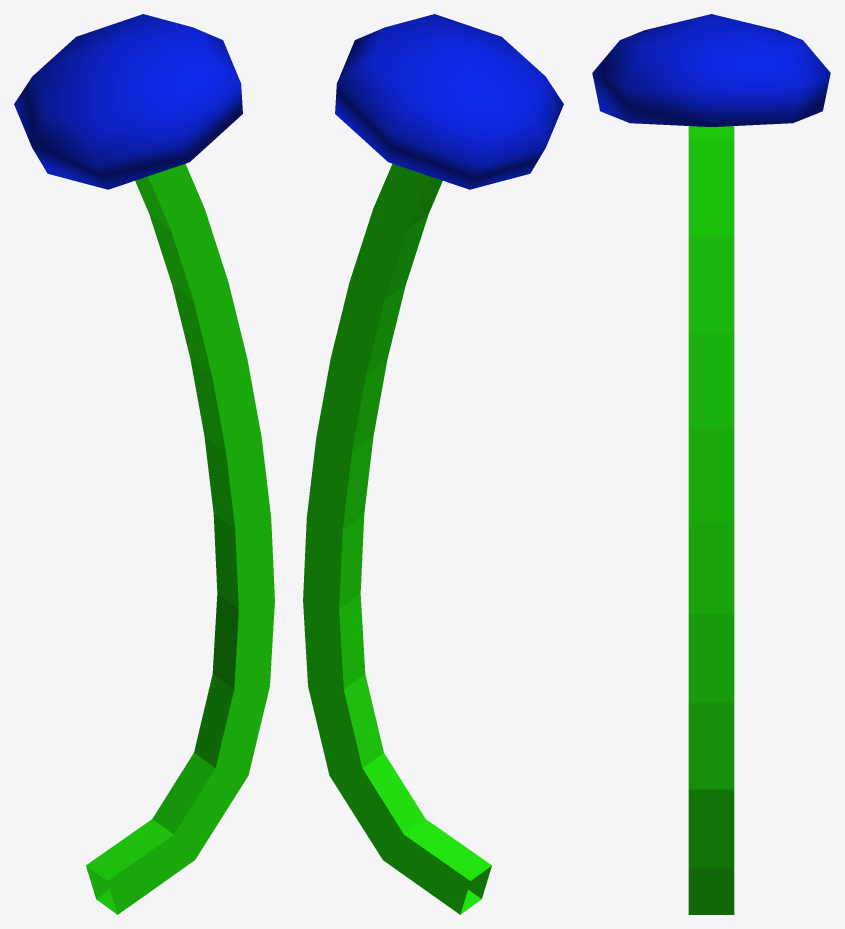
The model's file is Champis52A.fbx.
3 views of the same model, side by side, from view 1: azimuth 30°, elevation 25°; view 2: azimuth 150°, elevation 25°; view 3: azimuth 270°, elevation 25° (orthographic). The views are drawn at different scales.
Visible parts, largest first — view 1: ChikitaL, ChikitaL.001; view 2: ChikitaL, ChikitaL.001; view 3: ChikitaL, ChikitaL.001.
Boxes of the visible parts, x1,y1,x2,y2 form: ChikitaL: [86, 163, 274, 914]; ChikitaL.001: [14, 14, 242, 189]; ChikitaL: [303, 163, 491, 914]; ChikitaL.001: [335, 14, 563, 189]; ChikitaL: [688, 126, 734, 914]; ChikitaL.001: [592, 14, 830, 126].
Size of the model in its own units: 441 by 1559 by 373.
